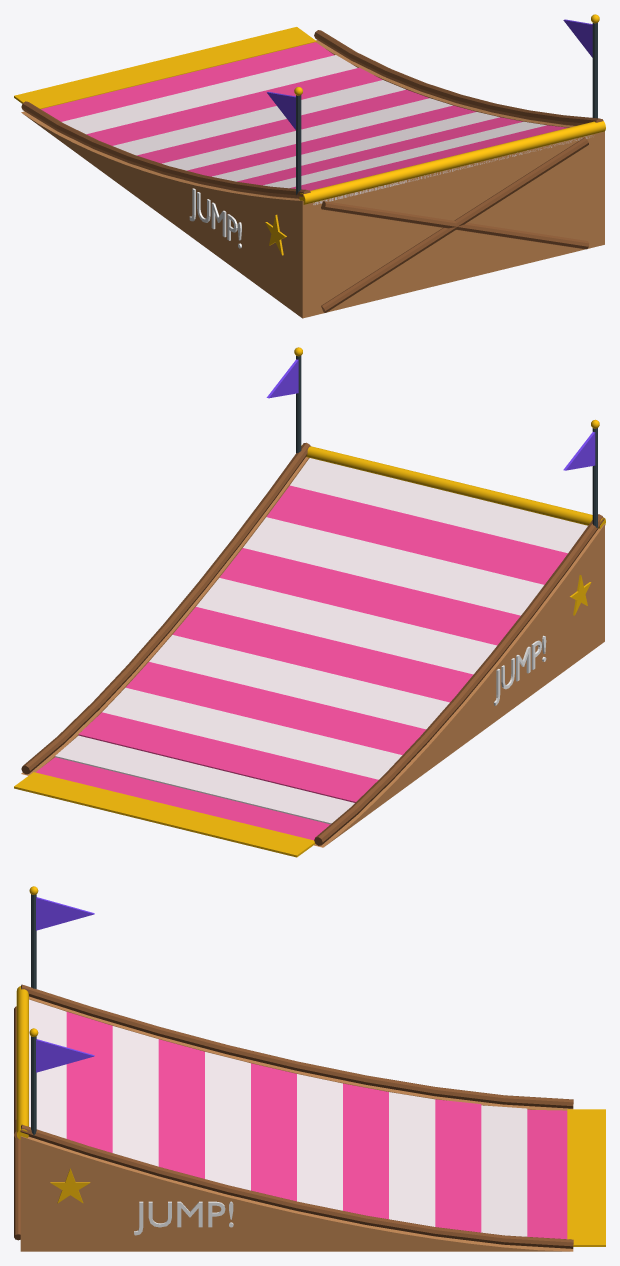
File: play_ramp.glb
3 views of the same model, one above another, from view 1: azimuth 30°, elevation 25°; view 2: azimuth 150°, elevation 25°; view 3: azimuth 270°, elevation 25° (orthographic).
Visible parts, largest first — view 1: Ramp; view 2: Ramp; view 3: Ramp.
Boxes of the visible parts, left/top/right/bottom form: Ramp: left=14, top=14, right=605, bottom=318; Ramp: left=14, top=347, right=605, bottom=857; Ramp: left=14, top=886, right=605, bottom=1251.
Bounding box in the file's own units: 3.14 × 2.21 × 5.35.
